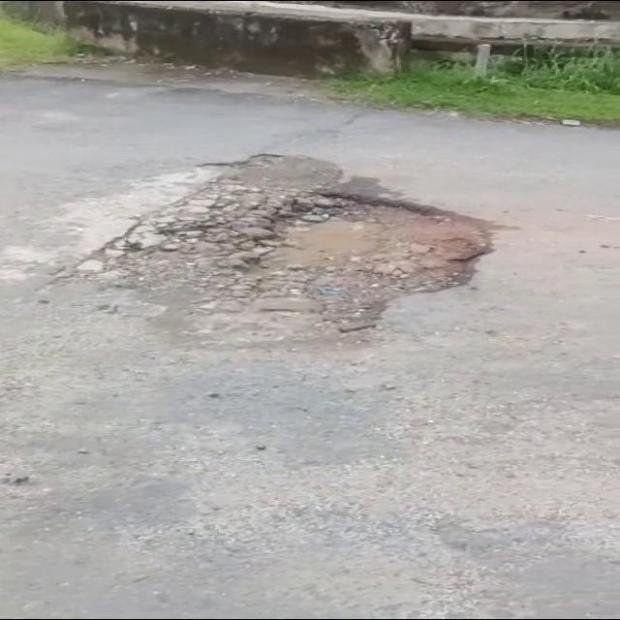lubang: (109, 154, 491, 341)
